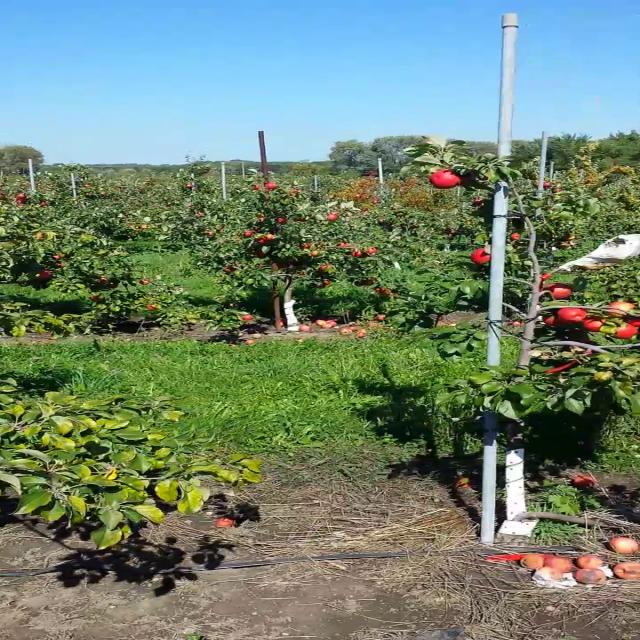apple: (430, 170, 462, 190), (604, 301, 636, 317), (556, 308, 588, 324), (540, 284, 572, 298), (611, 323, 639, 339), (582, 316, 606, 332), (470, 247, 492, 264), (543, 315, 567, 325), (624, 318, 639, 328), (509, 234, 521, 242)
